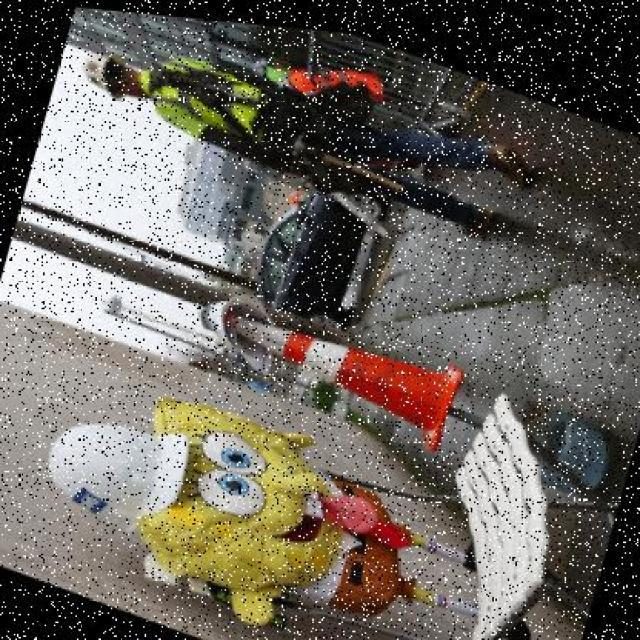helmet: (77, 37, 146, 105)
vest: (135, 23, 283, 161)
